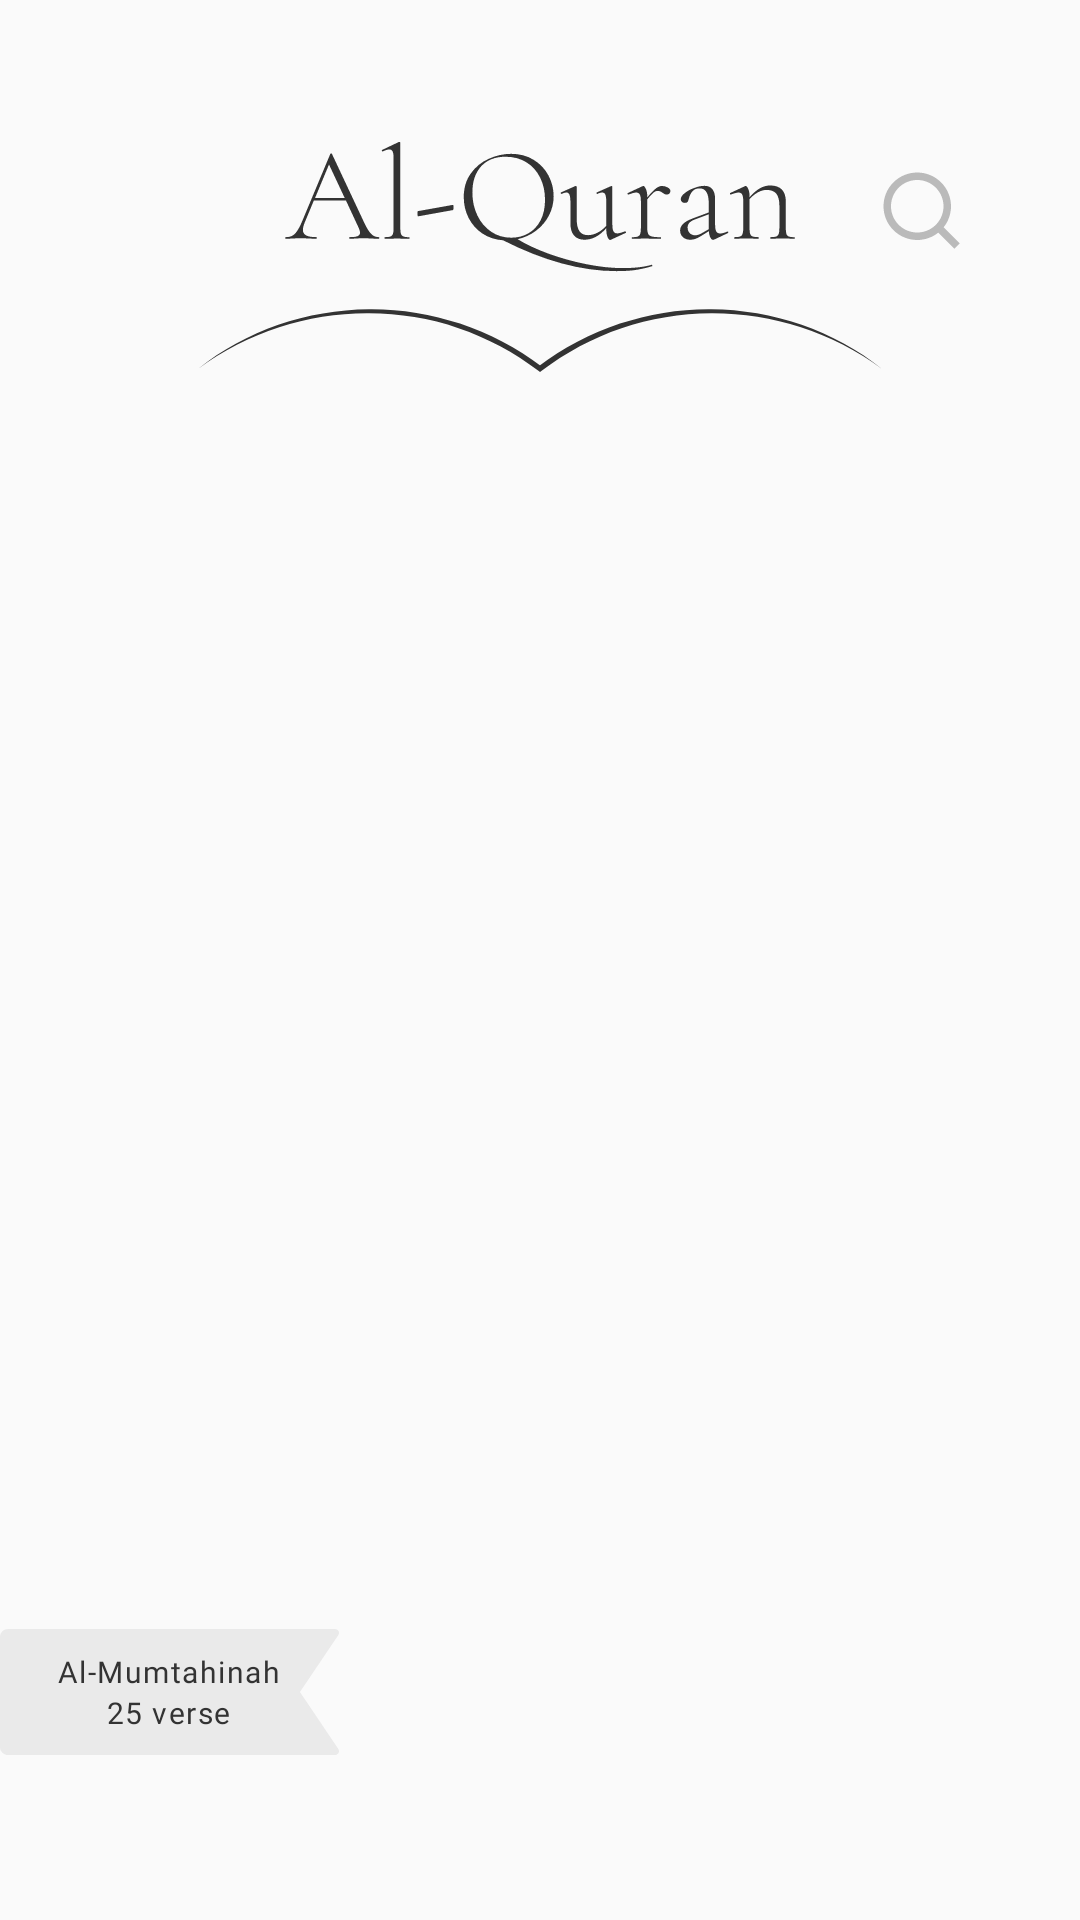

Screen size 1080 × 1920. Icon name, then its center in pixels as (x=x, y=y):
search: (x=921, y=210)
